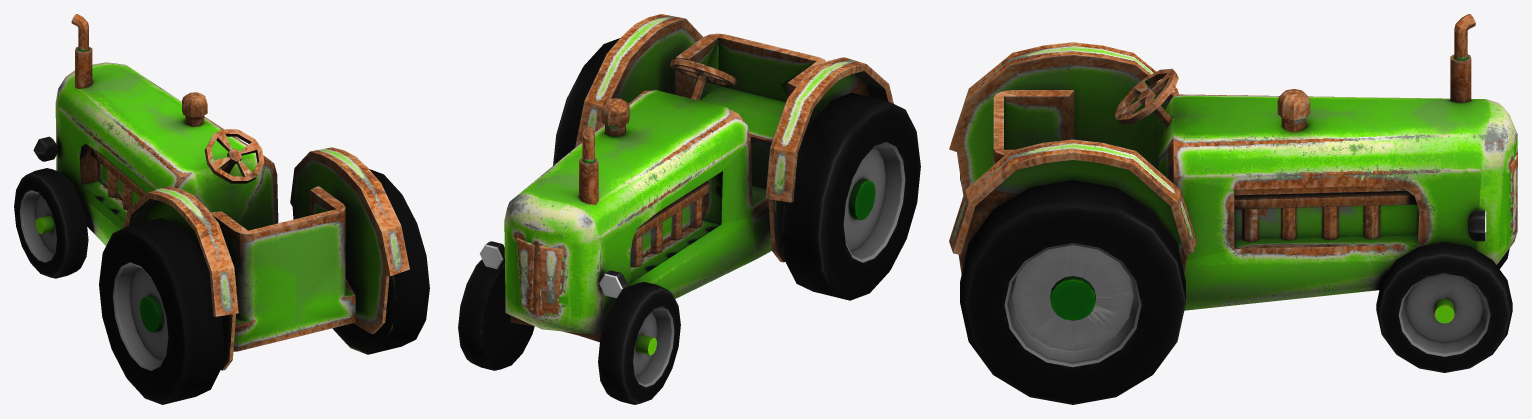
File: OldTractor.fbx
3 views of the same model, side by side, from view 1: azimuth 30°, elevation 25°; view 2: azimuth 150°, elevation 25°; view 3: azimuth 270°, elevation 25° (orthographic). The views are drawn at different scales.
Parts seen in each view (by area): view 1: Tracktor:OldTraktor; view 2: Tracktor:OldTraktor; view 3: Tracktor:OldTraktor.
Boxes of the visible parts, <box> form: Tracktor:OldTraktor: <box>14,14,429,404</box>; Tracktor:OldTraktor: <box>458,14,920,404</box>; Tracktor:OldTraktor: <box>949,14,1517,404</box>.
Bounding box in the file's own units: 22.22 × 20.96 × 35.77.
1 material, 1 textured.
